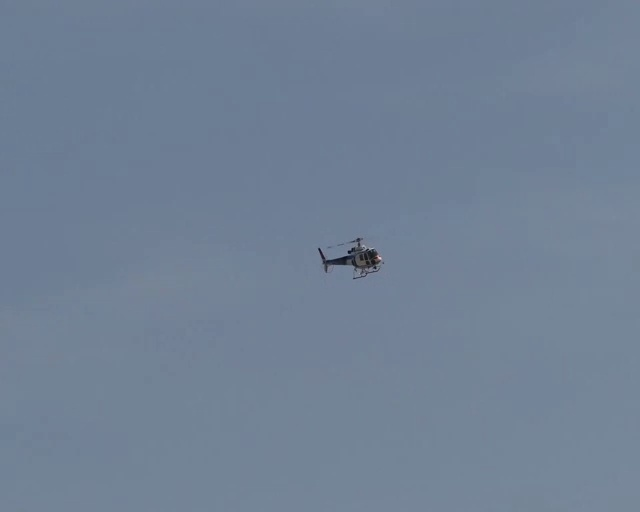HELICOPTER: (316, 236, 384, 279)
